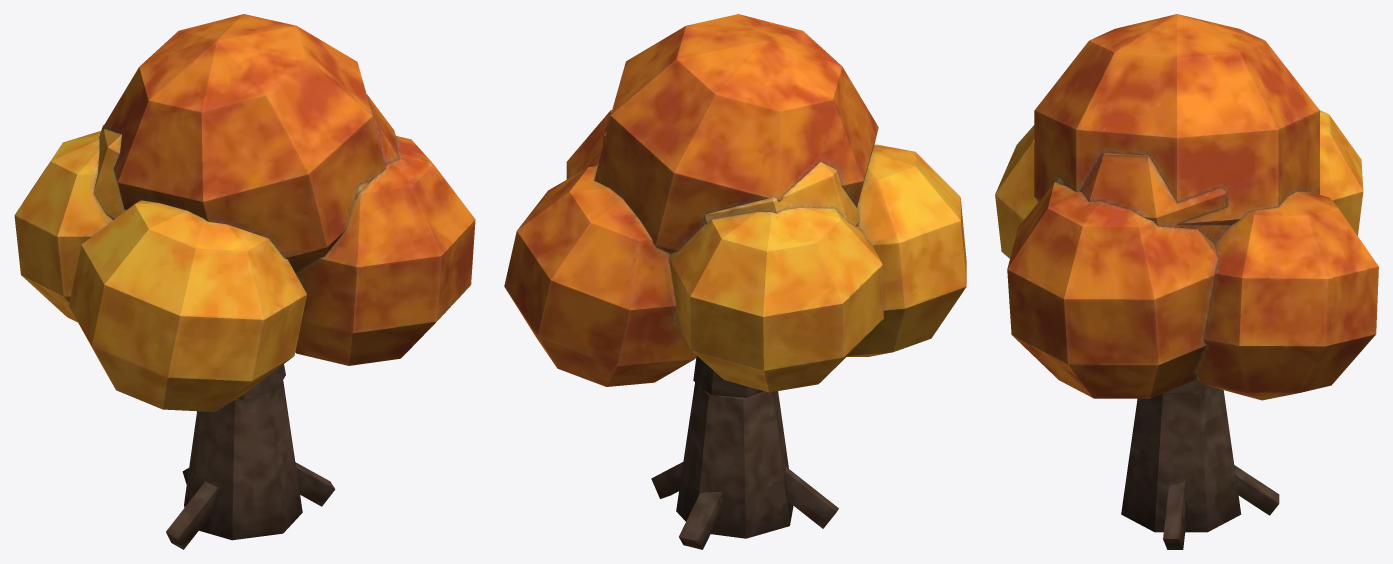
Rendered from tree_autumn.glb.
3 renders of one model, left to right at view 1: azimuth 30°, elevation 25°; view 2: azimuth 150°, elevation 25°; view 3: azimuth 270°, elevation 25°, orthographic.
Parts seen in each view (by area): view 1: Static_Mesh; view 2: Static_Mesh; view 3: Static_Mesh.
Boxes of the visible parts, x1,y1,x2,y2 form: Static_Mesh: (14,14,475,549); Static_Mesh: (504,14,966,549); Static_Mesh: (995,14,1378,549).
Bounding box in the file's own units: 5.35 × 6.63 × 4.73.
1 material, 1 textured.
